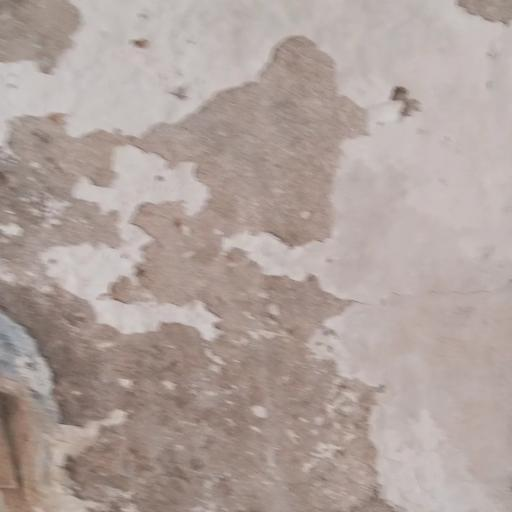peeling: (0, 0, 431, 511), (450, 0, 510, 62)
